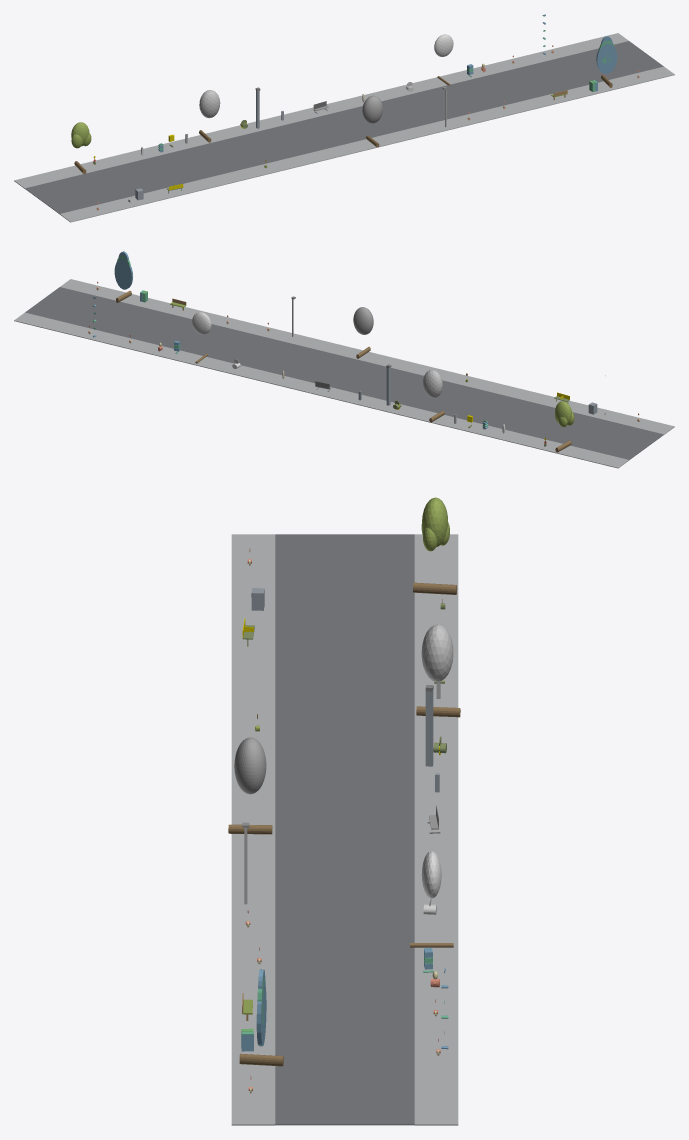
The picture shows the model from 3 angles, top to bottom: view 1: azimuth 30°, elevation 25°; view 2: azimuth 150°, elevation 25°; view 3: azimuth 270°, elevation 25°; orthographic projection. The views are drawn at different scales.
Visible parts, largest first — view 1: road_slab, sidewalk_left, sidewalk_right, inst_0016, inst_0013, inst_0014, inst_0012, inst_0015; view 2: road_slab, sidewalk_right, sidewalk_left, inst_0016, inst_0013, inst_0014, inst_0012, inst_0015; view 3: road_slab, sidewalk_left, sidewalk_right, inst_0014, inst_0013, inst_0012, inst_0016, inst_0015.
Boxes of the visible parts, left/top/right/bottom form: road_slab: left=25, top=41, right=663, bottom=213; sidewalk_left: left=59, top=66, right=674, bottom=222; sidewalk_right: left=14, top=33, right=628, bottom=188; inst_0016: left=596, top=36, right=617, bottom=87; inst_0013: left=199, top=90, right=220, bottom=142; inst_0014: left=362, top=95, right=382, bottom=147; inst_0012: left=71, top=122, right=91, bottom=174; inst_0015: left=434, top=34, right=453, bottom=85; road_slab: left=25, top=287, right=663, bottom=459; sidewalk_right: left=14, top=312, right=629, bottom=468; sidewalk_left: left=60, top=279, right=674, bottom=434; inst_0016: left=114, top=251, right=133, bottom=302; inst_0013: left=423, top=369, right=444, bottom=422; inst_0014: left=353, top=307, right=373, bottom=358; inst_0012: left=555, top=401, right=574, bottom=452; inst_0015: left=192, top=312, right=211, bottom=363; road_slab: left=275, top=534, right=414, bottom=1125; sidewalk_left: left=231, top=534, right=275, bottom=1125; sidewalk_right: left=414, top=534, right=458, bottom=1125; inst_0014: left=228, top=737, right=272, bottom=834; inst_0013: left=416, top=624, right=460, bottom=717; inst_0012: left=413, top=497, right=457, bottom=594; inst_0016: left=239, top=969, right=283, bottom=1066; inst_0015: left=410, top=851, right=453, bottom=947.
Size of the model in its own units: 80 by 6.08 by 13.3.
